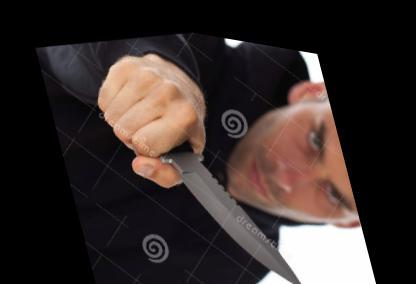knife: (116, 55, 311, 281)
